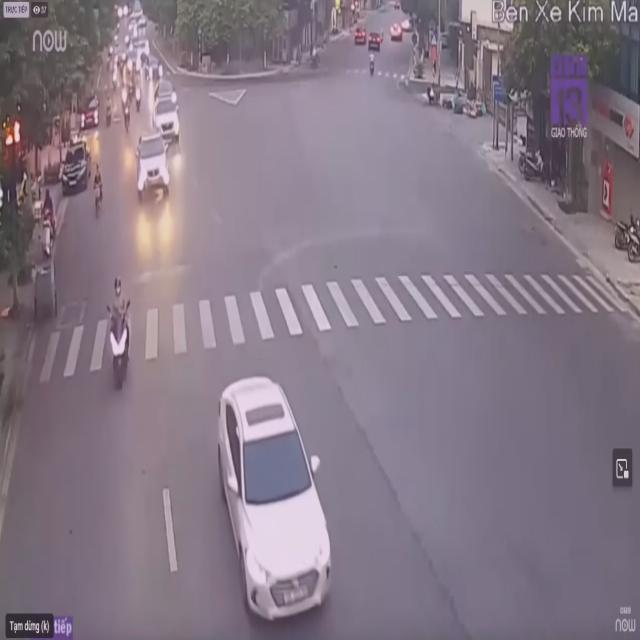car: (215, 375, 333, 638), (134, 131, 170, 199)
motorbike: (104, 275, 137, 396), (93, 160, 106, 220)
